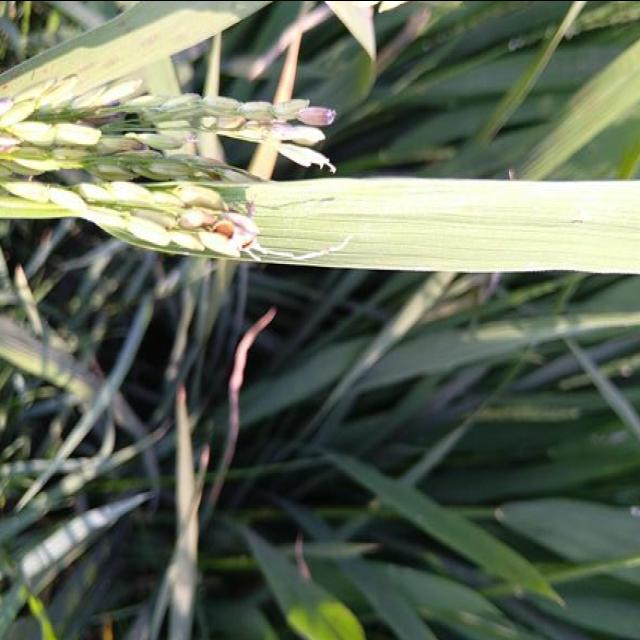Panicle Blight: (179, 202, 262, 259), (216, 114, 293, 140), (294, 104, 336, 126), (100, 134, 147, 151), (0, 132, 20, 152), (0, 97, 14, 115)
